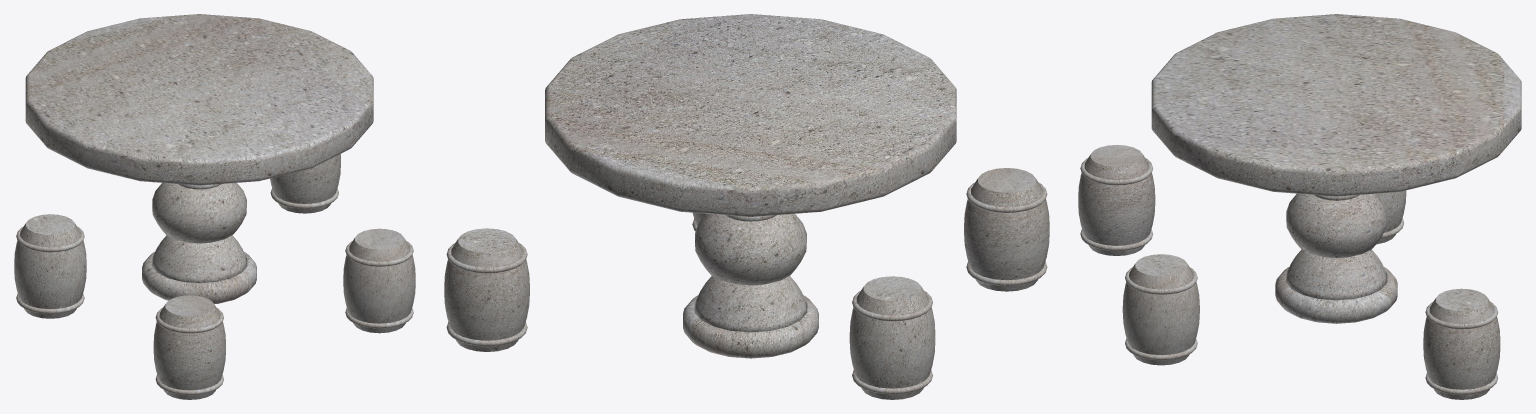
The model's file is shizhuo.FBX.
3 renders of one model, left to right at view 1: azimuth 30°, elevation 25°; view 2: azimuth 150°, elevation 25°; view 3: azimuth 270°, elevation 25°, orthographic. The views are drawn at different scales.
Visible parts, largest first — view 1: ChamferCyl01, Cylinder003, Cylinder005, Cylinder02, ChamferCyl02, ChamferCyl03, ChamferCyl04, Cylinder004, Torus009, Torus005, Torus03, Torus010 (+3 smaller); view 2: ChamferCyl01, Cylinder004, Cylinder02, Cylinder003, ChamferCyl02, ChamferCyl03, ChamferCyl04, Torus007, Torus03, Torus005, Torus008, Torus04 (+1 smaller); view 3: ChamferCyl01, Cylinder004, Cylinder005, Cylinder02, ChamferCyl02, ChamferCyl03, ChamferCyl04, Cylinder003, Torus009, Torus03, Torus007, Torus010 (+2 smaller).
Boxes of the visible parts, x1,y1,x2,y2 form: ChamferCyl01: (25,14,373,185); Cylinder003: (14,214,86,318); Cylinder005: (343,228,415,333); Cylinder02: (153,295,225,399); ChamferCyl02: (152,183,246,243); ChamferCyl03: (151,235,247,282); ChamferCyl04: (142,252,256,303); Cylinder004: (270,154,340,213); Torus009: (345,241,413,266); Torus005: (16,226,84,252); Torus03: (155,308,223,333); Torus010: (345,308,413,328); ChamferCyl01: (545,14,956,216); Cylinder004: (444,228,529,351); Cylinder02: (964,168,1049,291); Cylinder003: (849,276,935,399); ChamferCyl02: (695,213,806,285); ChamferCyl03: (694,276,807,332); ChamferCyl04: (683,295,818,358); Torus007: (446,243,527,273); Torus03: (966,182,1047,212); Torus005: (852,291,932,321); Torus008: (446,322,527,346); Torus04: (966,261,1047,285); ChamferCyl01: (1151,14,1521,196); Cylinder004: (1423,288,1500,399); Cylinder005: (1122,254,1199,365); Cylinder02: (1078,145,1155,255); ChamferCyl02: (1286,193,1386,258); ChamferCyl03: (1285,249,1387,300); ChamferCyl04: (1275,267,1397,323); Cylinder003: (1376,190,1406,244); Torus009: (1125,267,1197,294); Torus03: (1080,158,1152,185); Torus007: (1425,302,1498,329); Torus010: (1125,338,1197,360).
Bounding box in the file's own units: 169 × 88.27 × 168.
Materials: 1 (1 with a texture image).
